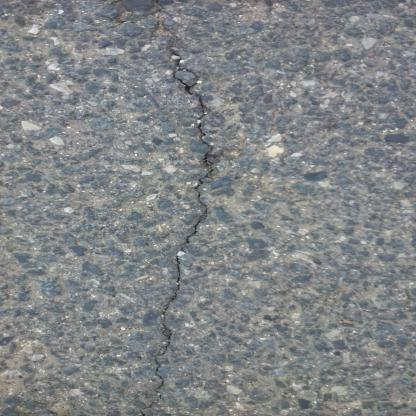Cracks: (131, 11, 228, 416)
